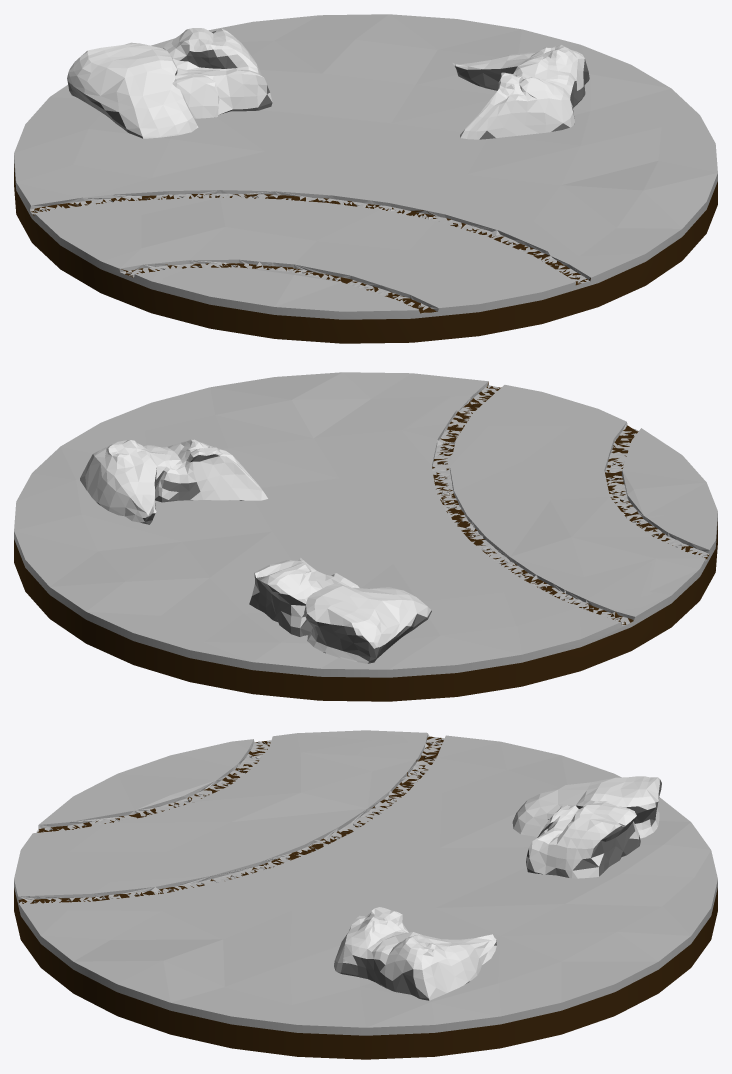
Rendered from Biome_Snow.glb.
3 views of the same model, one above another, from view 1: azimuth 30°, elevation 25°; view 2: azimuth 150°, elevation 25°; view 3: azimuth 270°, elevation 25° (orthographic).
Parts seen in each view (by area): view 1: SnowBiome; view 2: SnowBiome; view 3: SnowBiome.
Boxes of the visible parts, x1,y1,x2,y2 form: SnowBiome: [14, 14, 717, 343]; SnowBiome: [14, 372, 717, 701]; SnowBiome: [14, 730, 717, 1059].
Bounding box in the file's own units: 12.19 × 1.58 × 12.19.
